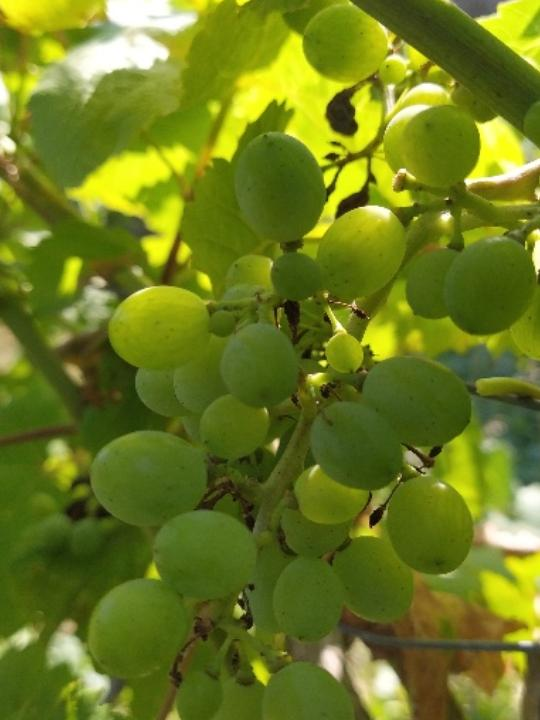grape: (82, 4, 540, 720)
